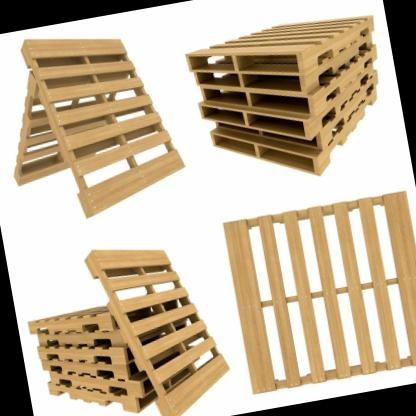BoxFace: (220, 191, 416, 395), (83, 243, 230, 416)
